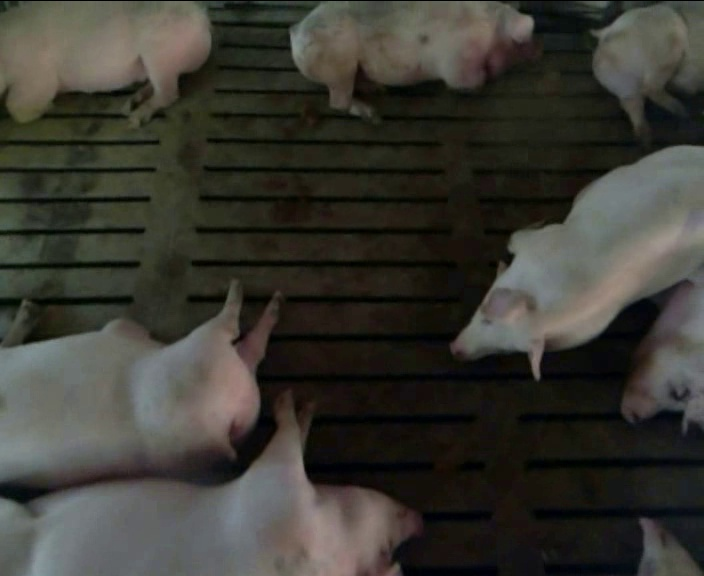pig: (0, 391, 420, 574), (451, 147, 703, 379), (0, 280, 279, 488), (290, 2, 534, 122), (0, 2, 210, 126), (592, 2, 703, 145)
